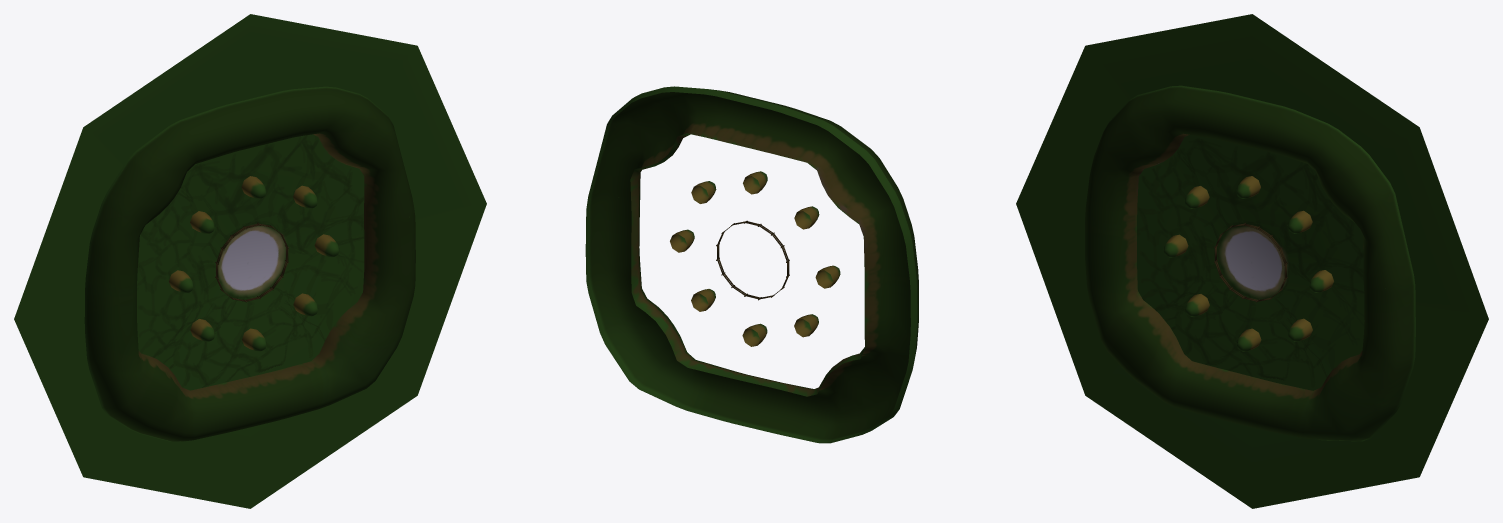
File: map.obj
3 views of the same model, side by side, from view 1: azimuth 30°, elevation 25°; view 2: azimuth 150°, elevation 25°; view 3: azimuth 330°, elevation 25° (orthographic).
Parts seen in each view (by area): view 1: Plane; view 2: Plane; view 3: Plane.
Boxes of the visible parts, x1=… form: Plane: x1=14, y1=14, x2=486, y2=508; Plane: x1=585, y1=86, x2=918, y2=443; Plane: x1=1016, y1=14, x2=1488, y2=508.
Bounding box in the file's own units: 220 × 220 × 14.72.
Materials: 1 (1 with a texture image).
